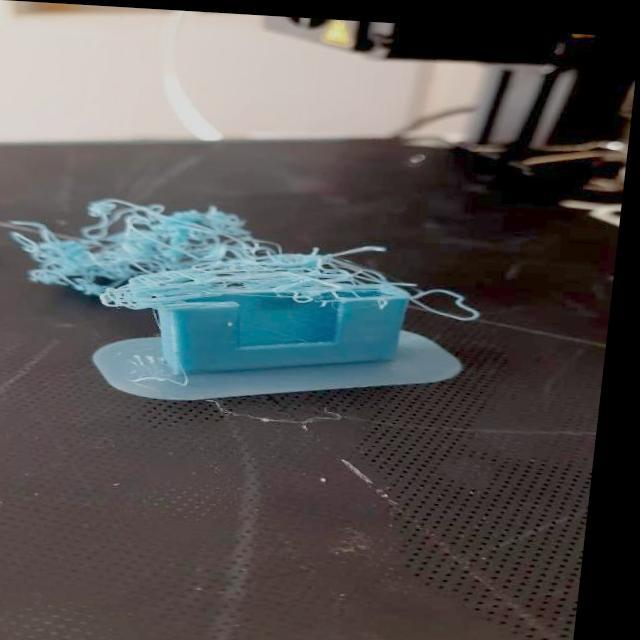spaghetti: (6, 199, 417, 318)
